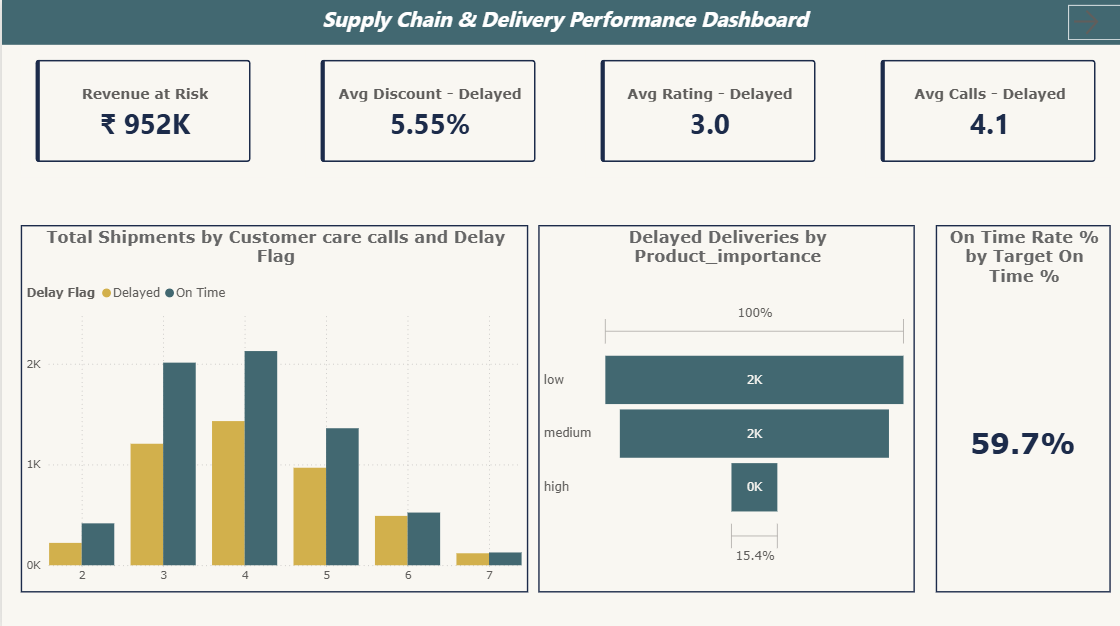

What the dashboard file says about the page in this screenshot:
{"tool":"powerbi","page":{"name":"Cost & Customer Impact","canvas":[1280,720],"ordinal":3},"visuals":[{"type":"cardVisual","fields":{"Data":["Shipments.Revenue at Risk"]},"box":[21.4,51.4,280,151.4],"z":0},{"type":"cardVisual","fields":{"Data":["Shipments.Avg Discount - Delayed"]},"box":[347.1,51.4,280,151.4],"z":1000},{"type":"cardVisual","fields":{"Data":["Shipments.Avg Rating - Delayed"]},"box":[667.1,51.4,280,151.4],"z":2000},{"type":"cardVisual","fields":{"Data":["Shipments.Avg Calls - Delayed"]},"box":[987.1,51.4,280,151.4],"z":3000},{"type":"clusteredColumnChart","fields":{"Category":["Shipments.Customer care calls"],"Y":["Shipments.Total Shipments"],"Series":["Shipments.Delay Flag"]},"box":[21.4,257.1,580,420],"z":4000},{"type":"funnel","fields":{"Category":["Shipments.Product_importance"],"Y":["Shipments.Delayed Deliveries"]},"box":[612.9,257.1,430,420],"z":5000},{"type":"kpi","fields":{"Indicator":["Shipments.On Time Rate %"],"TrendLine":["Target On Time %.Target On Time %"]},"box":[1067.1,257.1,200,420],"z":6000},{"type":"textbox","box":[0,0,1280,51.4],"z":7000},{"type":"actionButton","box":[1218.6,5.7,61.4,40],"z":8000}]}

Visuals, with their boxes in screenshot pixels (x1, y1, x2, y2), scaled from the page's 1280x720 canvas onto the 1120x626 screenshot:
cardVisual - Shipments.Revenue at Risk: [19, 45, 264, 176]
cardVisual - Shipments.Avg Discount - Delayed: [304, 45, 549, 176]
cardVisual - Shipments.Avg Rating - Delayed: [584, 45, 829, 176]
cardVisual - Shipments.Avg Calls - Delayed: [864, 45, 1109, 176]
clusteredColumnChart - Shipments.Customer care calls x Shipments.Total Shipments: [19, 224, 526, 589]
funnel - Shipments.Product_importance x Shipments.Delayed Deliveries: [536, 224, 913, 589]
kpi - Shipments.On Time Rate % x Target On Time %.Target On Time %: [934, 224, 1109, 589]
textbox: [0, 0, 1119, 45]
actionButton: [1066, 5, 1119, 40]
